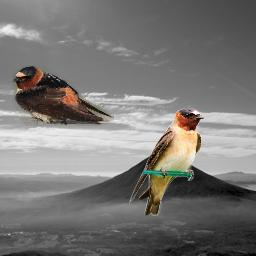Swallow: (129, 108, 205, 216), (12, 65, 114, 126)
